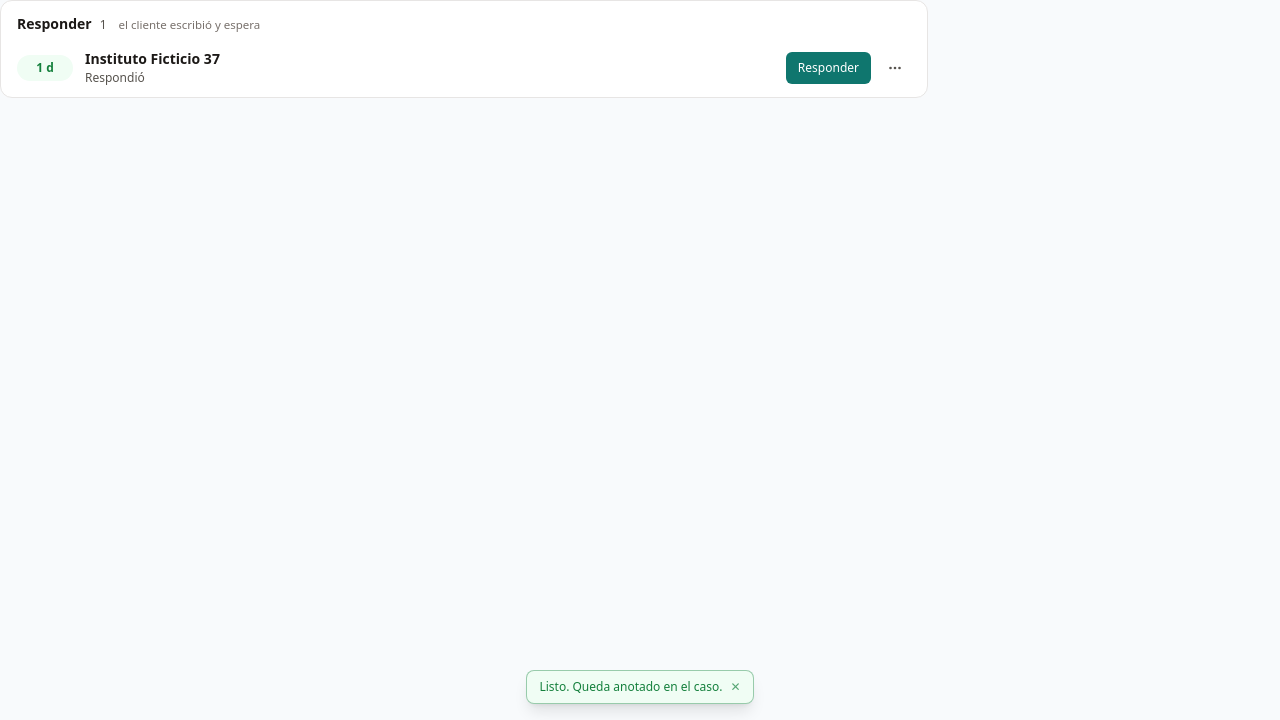
Test case: Hoy actions › «Responder» opens the client's email in a side panel, Gmail one click away
Click the button "Responder": (828, 68) [786,52,871,84]
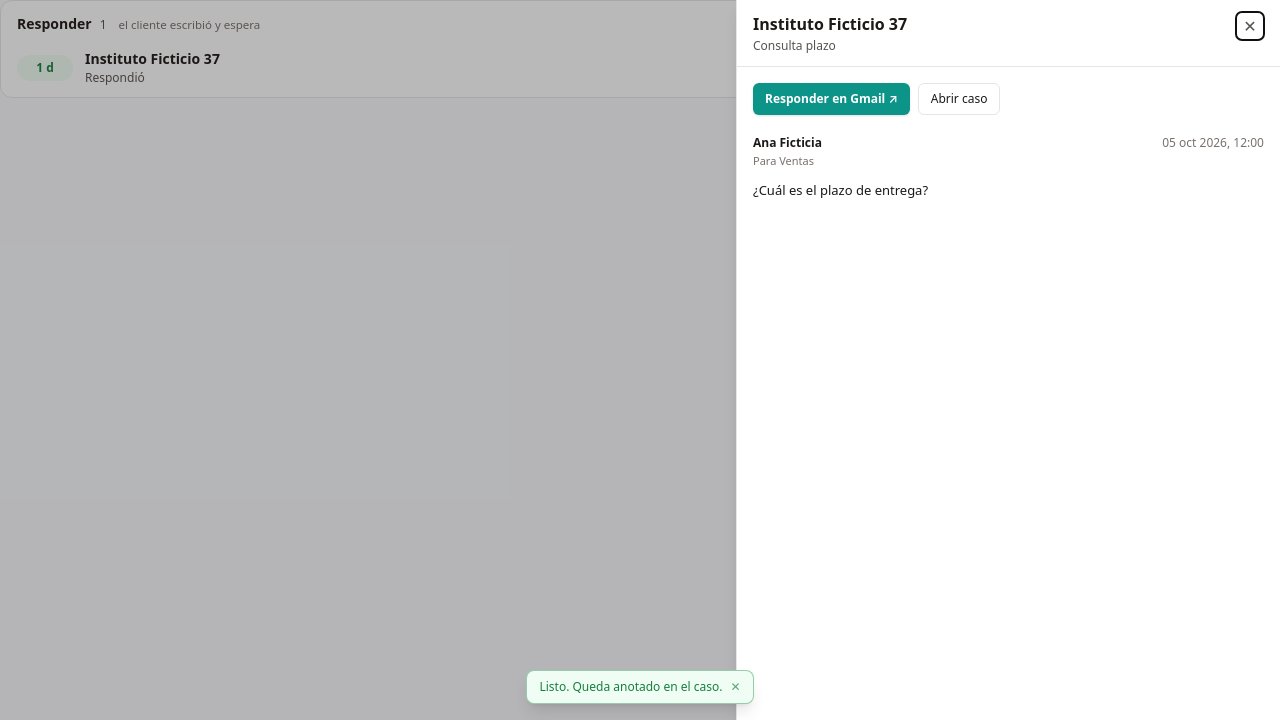
Expected: the text "¿Cuál es el plazo de entrega?" is shown, [753,180,928,198]
Click the button named "Cerrar": (1250, 26) [1236,12,1264,40]
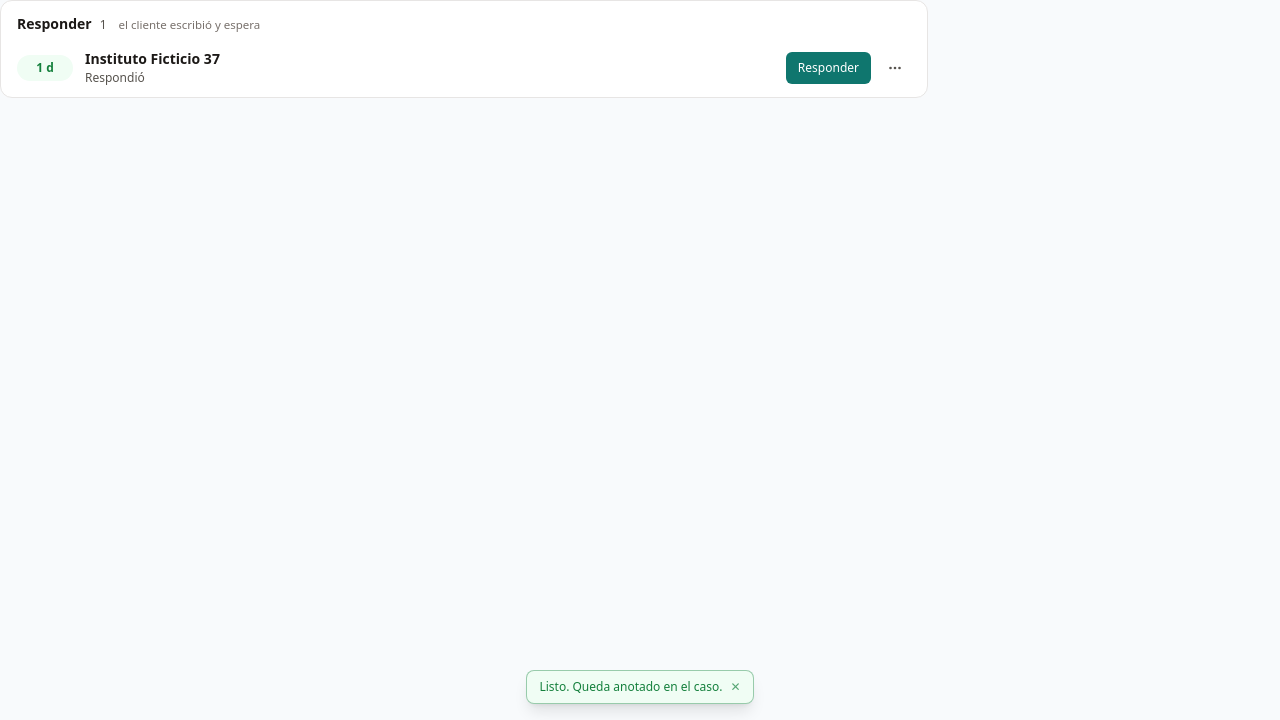
Expected: the dialog is gone
